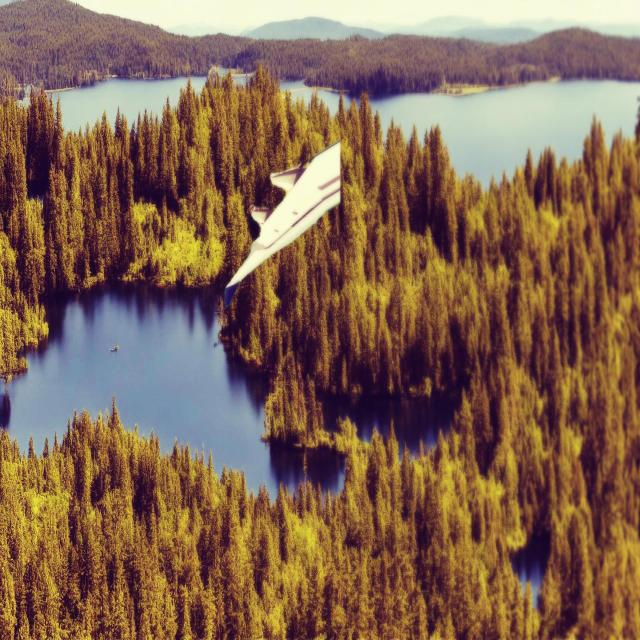airplane: (224, 139, 341, 308)
